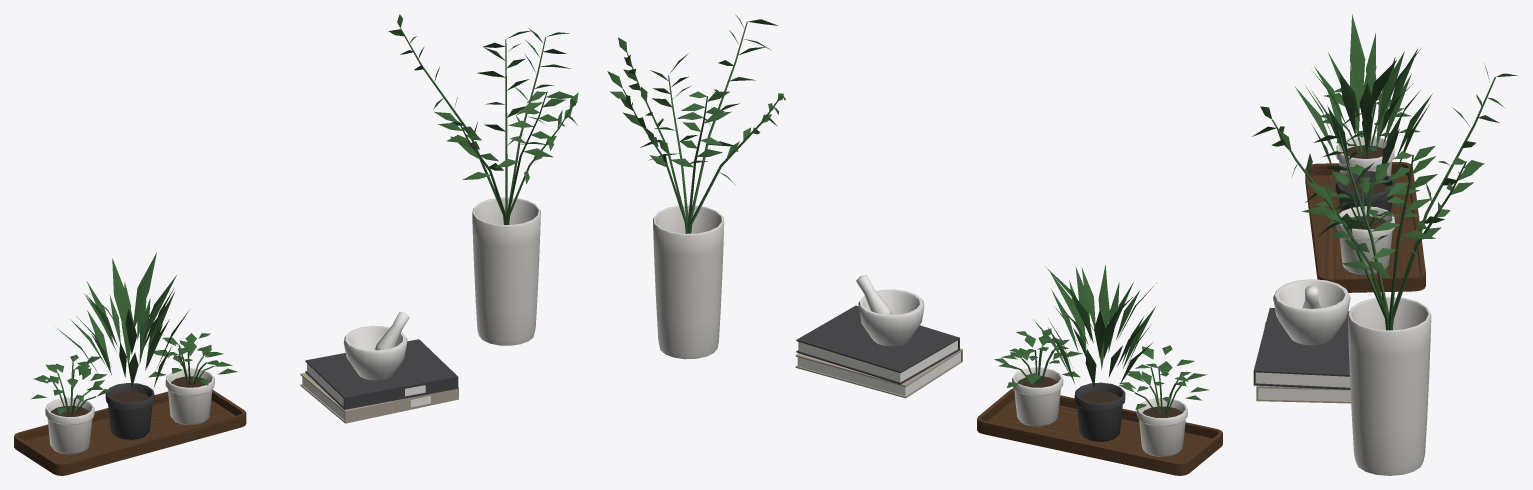
File: decor_b_vignette_island.gltf
3 views of the same model, side by side, from view 1: azimuth 30°, elevation 25°; view 2: azimuth 150°, elevation 25°; view 3: azimuth 270°, elevation 25° (orthographic). The views are drawn at different scales.
Visible parts, largest first — view 1: DecorBVignetteIsland_Leaf_NoCollide, DecorBVignetteIsland_Vase01_CeramicWhite_NoCollide, DecorBVignetteIsland_Walnut_NoCollide, DecorBVignetteIsland_Book02_WoolCharcoal_NoCollide, DecorBVignetteIsland_CeramicWhite_NoCollide, DecorBVignetteIsland_Mortar01_Marble_NoCollide, DecorBVignetteIsland_CeramicCharcoal_NoCollide, DecorBVignetteIsland_Book01_LinenOat_NoCollide, DecorBVignetteIsland_Coffee_NoCollide; view 2: DecorBVignetteIsland_Leaf_NoCollide, DecorBVignetteIsland_Vase01_CeramicWhite_NoCollide, DecorBVignetteIsland_Walnut_NoCollide, DecorBVignetteIsland_Book02_WoolCharcoal_NoCollide, DecorBVignetteIsland_CeramicWhite_NoCollide, DecorBVignetteIsland_Mortar01_Marble_NoCollide, DecorBVignetteIsland_CeramicCharcoal_NoCollide, DecorBVignetteIsland_Book01_PaperWhite_NoCollide, DecorBVignetteIsland_Book02_PaperWhite_NoCollide, DecorBVignetteIsland_Book01_LinenOat_NoCollide, DecorBVignetteIsland_Coffee_NoCollide; view 3: DecorBVignetteIsland_Leaf_NoCollide, DecorBVignetteIsland_Vase01_CeramicWhite_NoCollide, DecorBVignetteIsland_Walnut_NoCollide, DecorBVignetteIsland_Book02_WoolCharcoal_NoCollide, DecorBVignetteIsland_Mortar01_Marble_NoCollide, DecorBVignetteIsland_CeramicWhite_NoCollide, DecorBVignetteIsland_Book02_PaperWhite_NoCollide, DecorBVignetteIsland_Book01_PaperWhite_NoCollide, DecorBVignetteIsland_CeramicCharcoal_NoCollide, DecorBVignetteIsland_Coffee_NoCollide, DecorBVignetteIsland_Book01_LinenOat_NoCollide.
Part boxes in pixels (x1,y1,x2,y2): DecorBVignetteIsland_Leaf_NoCollide: [31, 14, 578, 415]; DecorBVignetteIsland_Vase01_CeramicWhite_NoCollide: [472, 197, 540, 345]; DecorBVignetteIsland_Walnut_NoCollide: [14, 389, 246, 475]; DecorBVignetteIsland_Book02_WoolCharcoal_NoCollide: [305, 339, 458, 409]; DecorBVignetteIsland_CeramicWhite_NoCollide: [45, 368, 214, 454]; DecorBVignetteIsland_Mortar01_Marble_NoCollide: [343, 312, 409, 380]; DecorBVignetteIsland_CeramicCharcoal_NoCollide: [105, 383, 154, 439]; DecorBVignetteIsland_Book01_LinenOat_NoCollide: [300, 372, 458, 423]; DecorBVignetteIsland_Coffee_NoCollide: [51, 376, 209, 416]; DecorBVignetteIsland_Leaf_NoCollide: [607, 14, 1208, 415]; DecorBVignetteIsland_Vase01_CeramicWhite_NoCollide: [652, 205, 724, 359]; DecorBVignetteIsland_Walnut_NoCollide: [977, 388, 1222, 475]; DecorBVignetteIsland_Book02_WoolCharcoal_NoCollide: [796, 305, 959, 384]; DecorBVignetteIsland_CeramicWhite_NoCollide: [1012, 367, 1187, 456]; DecorBVignetteIsland_Mortar01_Marble_NoCollide: [856, 275, 924, 346]; DecorBVignetteIsland_CeramicCharcoal_NoCollide: [1074, 382, 1125, 441]; DecorBVignetteIsland_Book01_PaperWhite_NoCollide: [797, 352, 960, 396]; DecorBVignetteIsland_Book02_PaperWhite_NoCollide: [798, 340, 957, 382]; DecorBVignetteIsland_Book01_LinenOat_NoCollide: [795, 348, 962, 398]; DecorBVignetteIsland_Coffee_NoCollide: [1017, 376, 1182, 418]; DecorBVignetteIsland_Leaf_NoCollide: [1252, 14, 1517, 330]; DecorBVignetteIsland_Vase01_CeramicWhite_NoCollide: [1347, 296, 1431, 475]; DecorBVignetteIsland_Walnut_NoCollide: [1305, 162, 1425, 292]; DecorBVignetteIsland_Book02_WoolCharcoal_NoCollide: [1253, 307, 1350, 389]; DecorBVignetteIsland_Mortar01_Marble_NoCollide: [1273, 279, 1350, 345]; DecorBVignetteIsland_CeramicWhite_NoCollide: [1336, 136, 1394, 274]; DecorBVignetteIsland_Book02_PaperWhite_NoCollide: [1255, 372, 1350, 387]; DecorBVignetteIsland_Book01_PaperWhite_NoCollide: [1258, 388, 1350, 401]; DecorBVignetteIsland_CeramicCharcoal_NoCollide: [1335, 171, 1395, 212]; DecorBVignetteIsland_Coffee_NoCollide: [1342, 145, 1386, 229]; DecorBVignetteIsland_Book01_LinenOat_NoCollide: [1256, 322, 1351, 403].
Size of the model in its own units: 1.29 by 0.6555 by 0.4474.
Materials: 9 (1 with a texture image).
